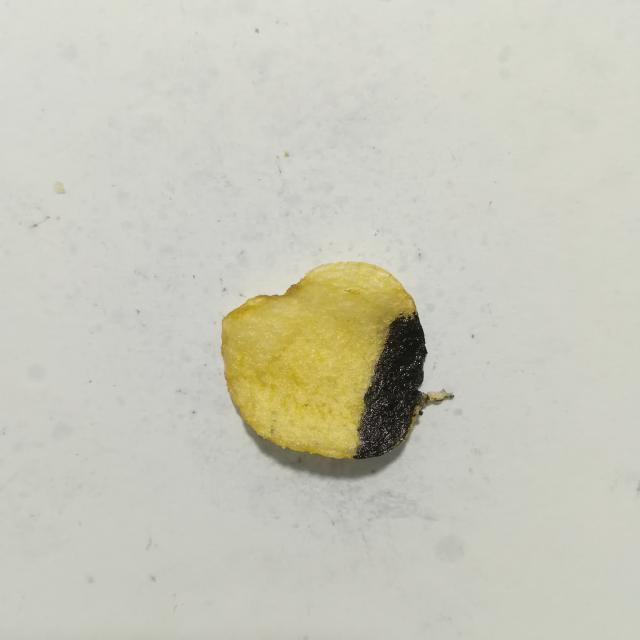chip: (222, 262, 453, 459)
damaged: (354, 311, 429, 459)
semi-damaged: (354, 294, 416, 424)
